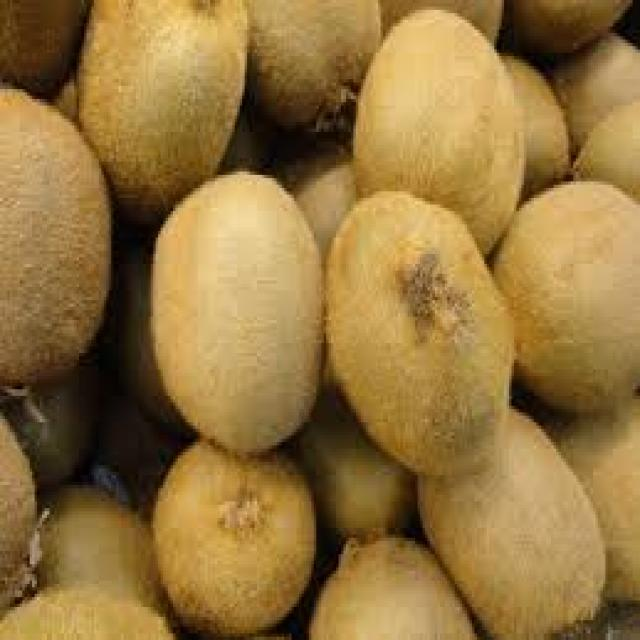kiwi: (324, 181, 519, 485), (148, 168, 329, 459), (417, 406, 608, 640), (354, 14, 532, 258), (487, 178, 640, 432), (74, 3, 262, 208), (2, 79, 114, 399), (153, 439, 321, 640), (35, 478, 168, 624), (252, 4, 390, 136), (309, 534, 479, 640), (556, 402, 640, 600), (302, 409, 420, 544), (2, 409, 50, 620), (509, 46, 581, 178), (2, 587, 170, 640), (551, 36, 640, 136), (566, 99, 640, 205)
